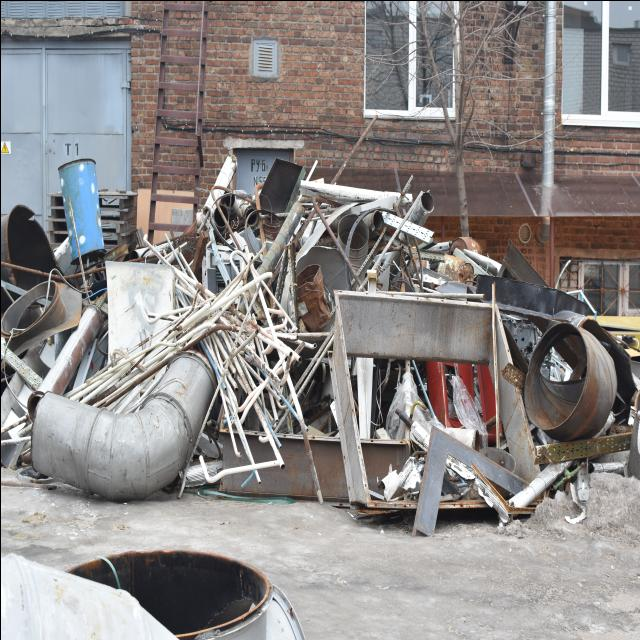entulho: (0, 140, 640, 542)
terra: (534, 462, 640, 552)
